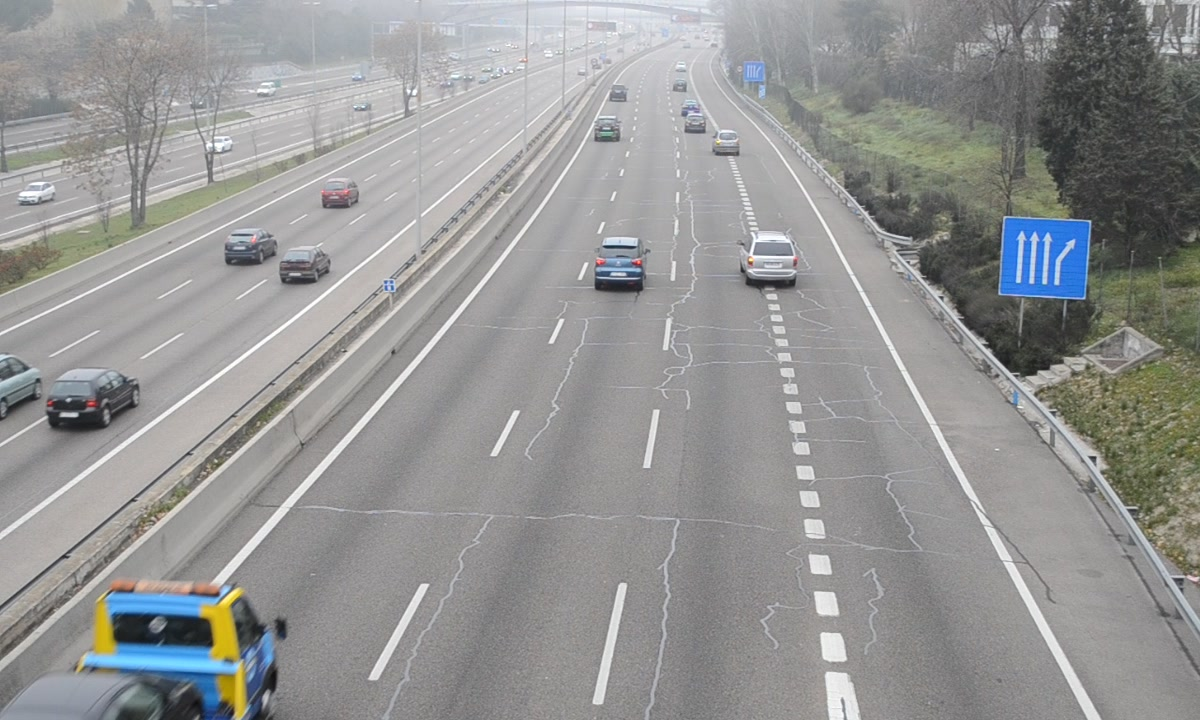car: (740, 231, 797, 286), (593, 238, 645, 286), (713, 128, 741, 156), (593, 115, 621, 143)
small-truck: (1, 579, 276, 720)
